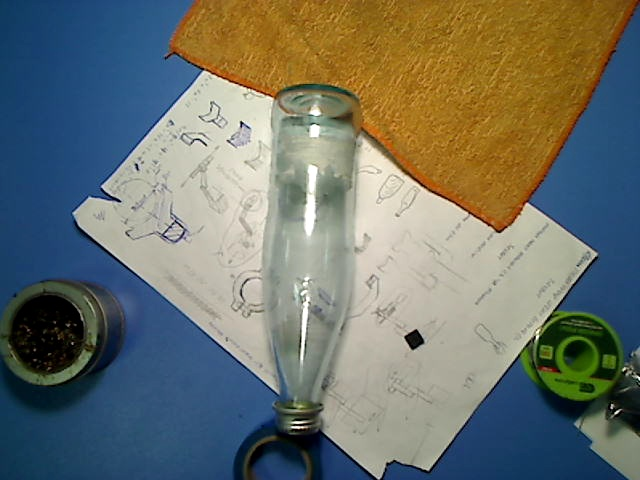bottle: (261, 81, 361, 438)
